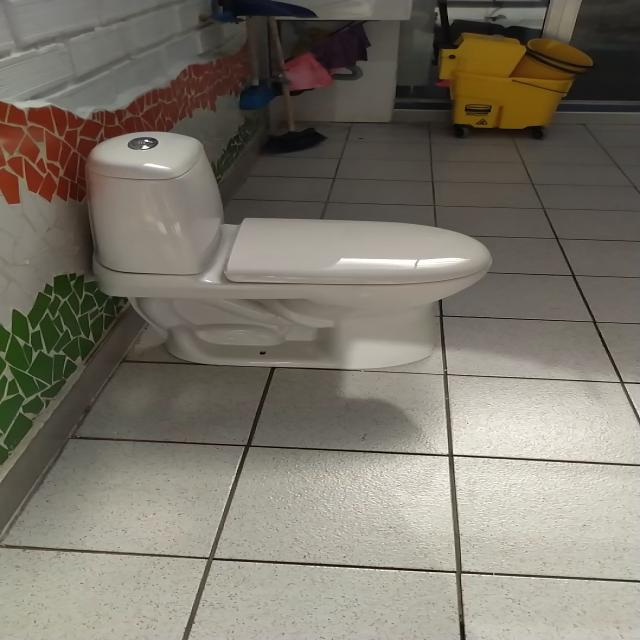toilet: (77, 124, 507, 378)
